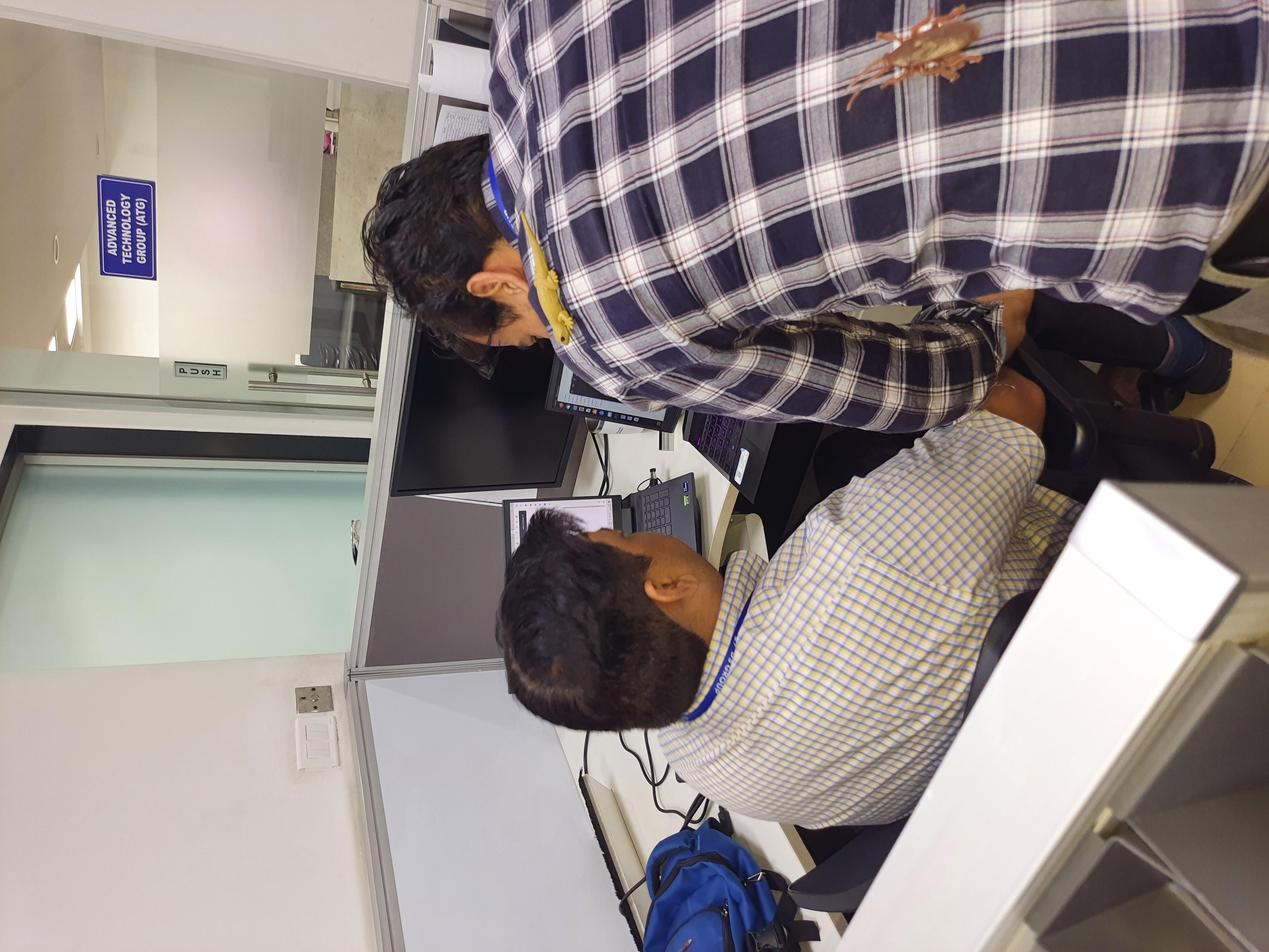cockroach: (1128, 616, 1269, 778)
lizard: (750, 387, 1033, 433)
